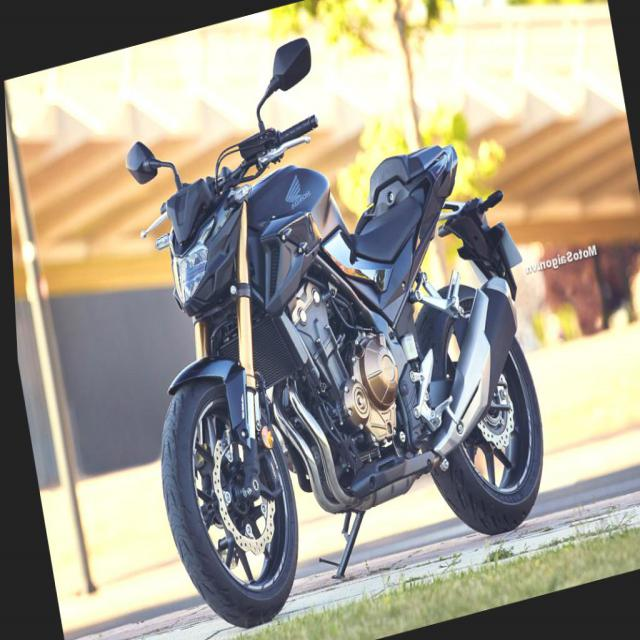CB500F: (89, 0, 562, 639)
